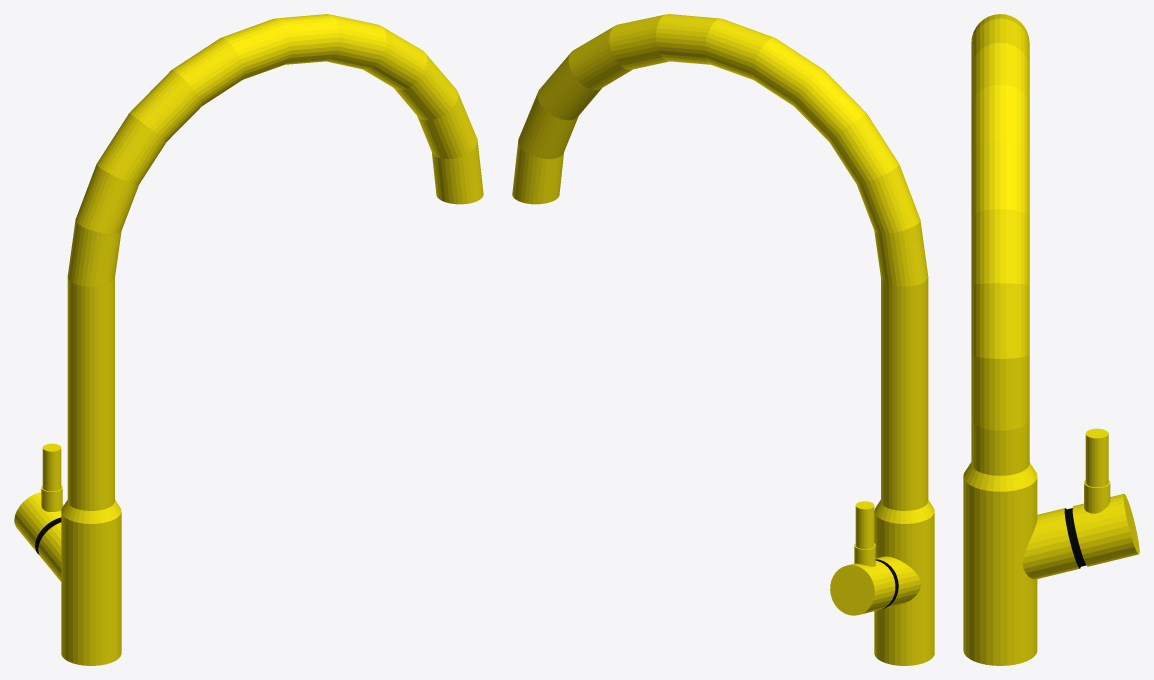
File: robinet.fbx
3 renders of one model, left to right at view 1: azimuth 30°, elevation 25°; view 2: azimuth 150°, elevation 25°; view 3: azimuth 270°, elevation 25°, orthographic. The views are drawn at different scales.
Visible parts, largest first — view 1: Cylinder.004; view 2: Cylinder.004; view 3: Cylinder.004.
Part boxes in pixels (x1,y1,x2,y2): Cylinder.004: (14,14,483,665); Cylinder.004: (512,14,934,665); Cylinder.004: (963,14,1139,665).
Size of the model in its own units: 103 by 139 by 30.81.
